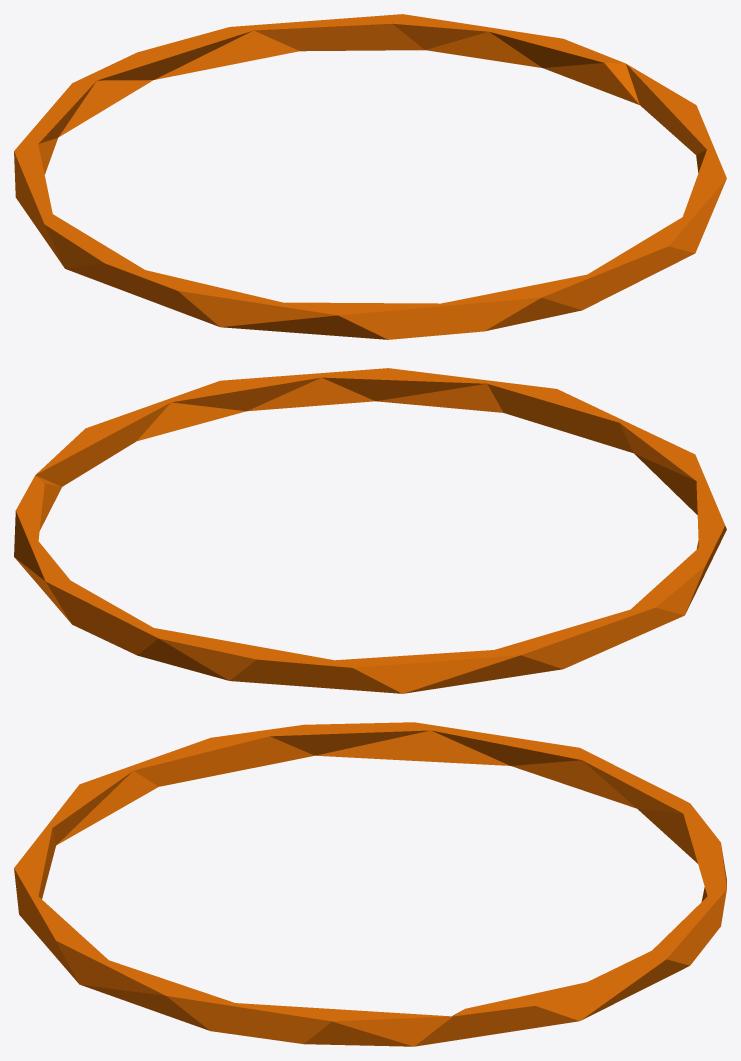
Rendered from Ring.glb.
3 views of the same model, one above another, from view 1: azimuth 30°, elevation 25°; view 2: azimuth 150°, elevation 25°; view 3: azimuth 270°, elevation 25° (orthographic).
Visible parts, largest first — view 1: Ring; view 2: Ring; view 3: Ring.
Boxes of the visible parts, x1,y1,x2,y2 form: Ring: (14, 14, 726, 339); Ring: (14, 368, 726, 693); Ring: (14, 722, 726, 1046).
Bounding box in the file's own units: 0.0424 × 0.00166 × 0.0424.
